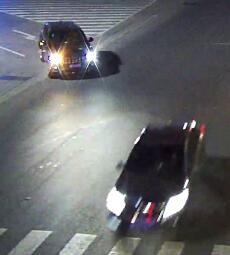car: (105, 120, 209, 237), (39, 21, 97, 76)
